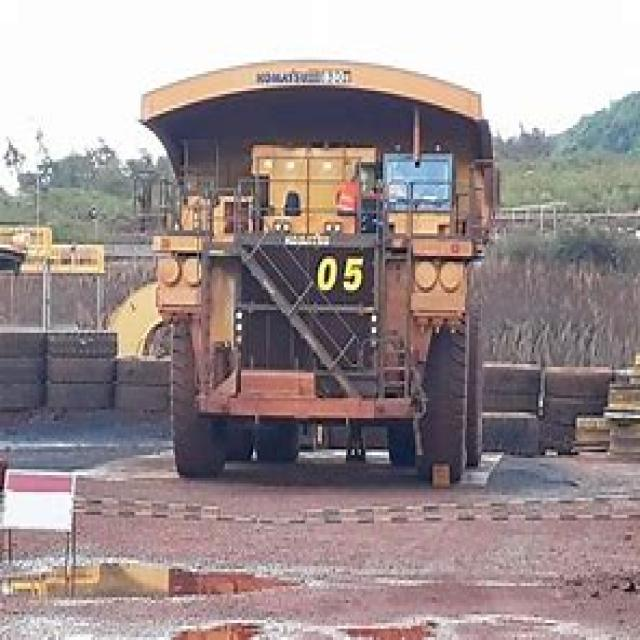dump_truck: (130, 51, 497, 504)
